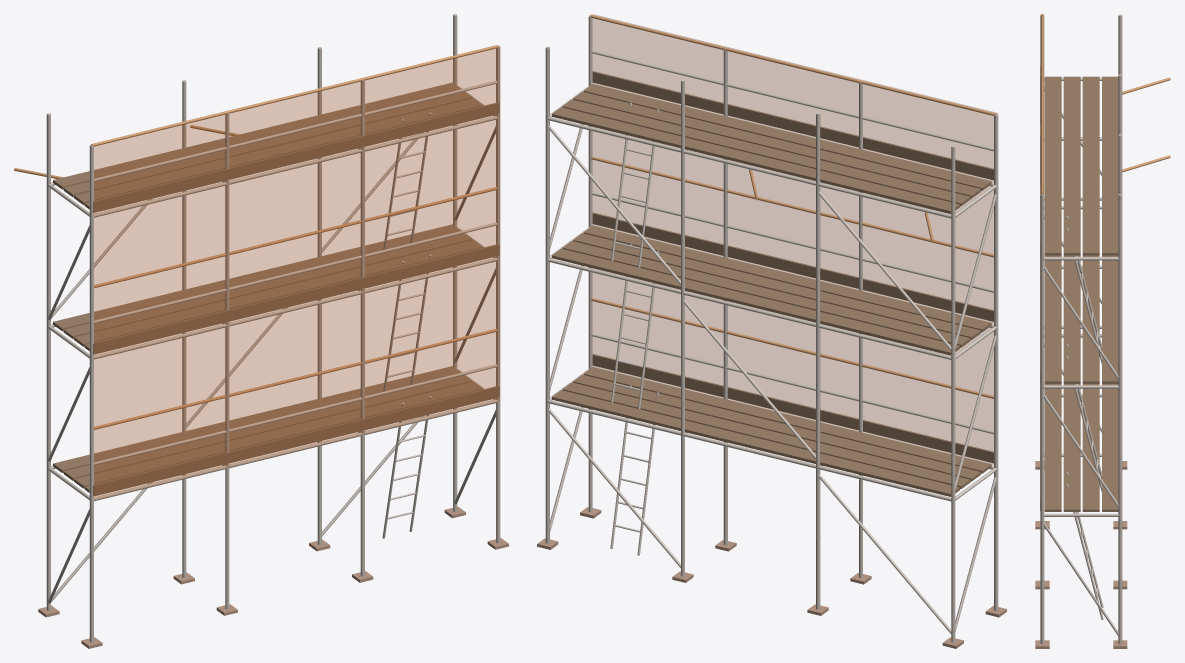
The model's file is P15_scaffold_6x6.glb.
3 renders of one model, left to right at view 1: azimuth 30°, elevation 25°; view 2: azimuth 150°, elevation 25°; view 3: azimuth 270°, elevation 25°, orthographic. The views are drawn at different scales.
Parts seen in each view (by area): view 1: safety_netting, plank, standard, base_plate; view 2: safety_netting, plank, standard, base_plate; view 3: plank, standard, base_plate.
Boxes of the visible parts, bbox=[...] form: safety_netting: bbox=[94, 47, 499, 499]; plank: bbox=[14, 45, 499, 496]; standard: bbox=[46, 14, 500, 642]; base_plate: bbox=[38, 506, 508, 648]; safety_netting: bbox=[593, 14, 997, 465]; plank: bbox=[552, 14, 996, 496]; standard: bbox=[545, 15, 998, 642]; base_plate: bbox=[537, 507, 1006, 648]; plank: bbox=[1040, 14, 1170, 511]; standard: bbox=[1040, 14, 1122, 644]; base_plate: bbox=[1035, 461, 1127, 648].
Size of the model in its own units: 6.22 by 7.06 by 1.91.
